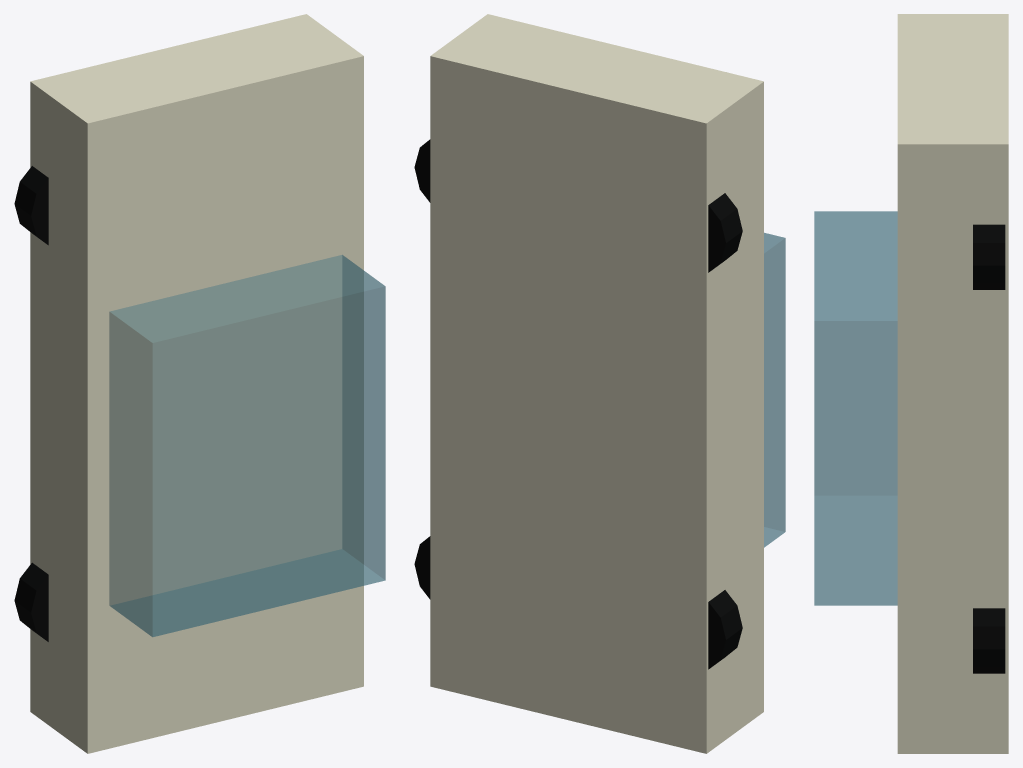
The model's file is compact_car.obj.
3 renders of one model, left to right at view 1: azimuth 30°, elevation 25°; view 2: azimuth 150°, elevation 25°; view 3: azimuth 270°, elevation 25°, orthographic. The views are drawn at different scales.
Parts seen in each view (by area): view 1: compact_car; view 2: compact_car; view 3: compact_car.
Boxes of the visible parts, <box> form: compact_car: <box>14,14,385,753</box>; compact_car: <box>414,14,785,753</box>; compact_car: <box>814,14,1008,753</box>.
Size of the model in its own units: 1.94 by 3.75 by 1.08.
